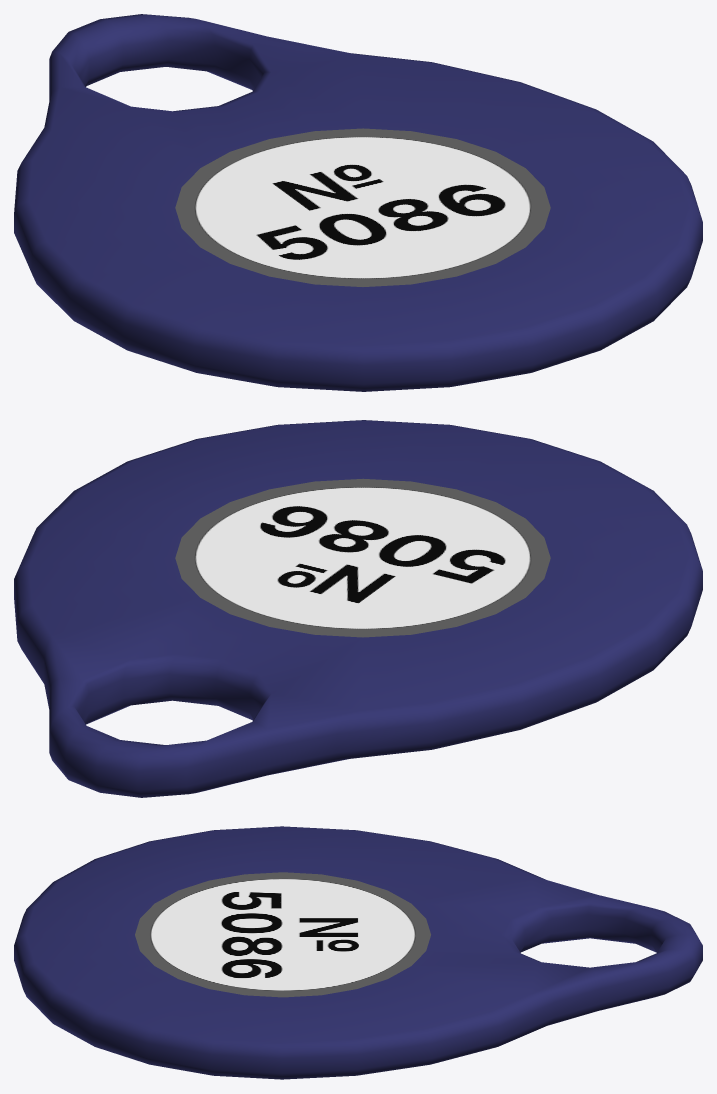
Rendered from key.fbx.
The picture shows the model from 3 angles, top to bottom: view 1: azimuth 30°, elevation 25°; view 2: azimuth 150°, elevation 25°; view 3: azimuth 270°, elevation 25°; orthographic projection. The views are drawn at different scales.
Visible parts, largest first — view 1: key; view 2: key; view 3: key.
Boxes of the visible parts, x1,y1,x2,y2 form: key: (14,14,702,391); key: (14,420,702,797); key: (14,826,702,1079).
Bounding box in the file's own units: 3.21 × 0.2402 × 4.13.
2 materials, 1 textured.
